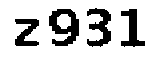1: (118, 3, 148, 50)
3: (84, 6, 113, 49)
9: (46, 6, 80, 49)
z: (12, 15, 42, 48)
